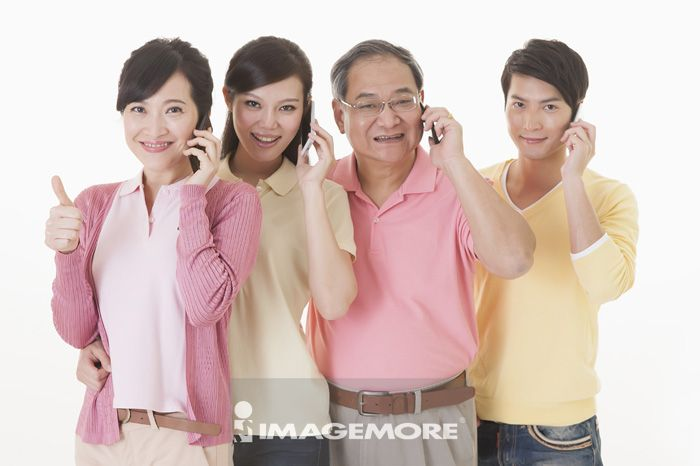phone: (189, 112, 213, 176), (421, 103, 440, 149), (567, 103, 584, 154), (301, 99, 315, 157)
talk: (239, 89, 337, 198), (353, 83, 467, 172), (127, 97, 221, 194), (506, 89, 598, 181)
